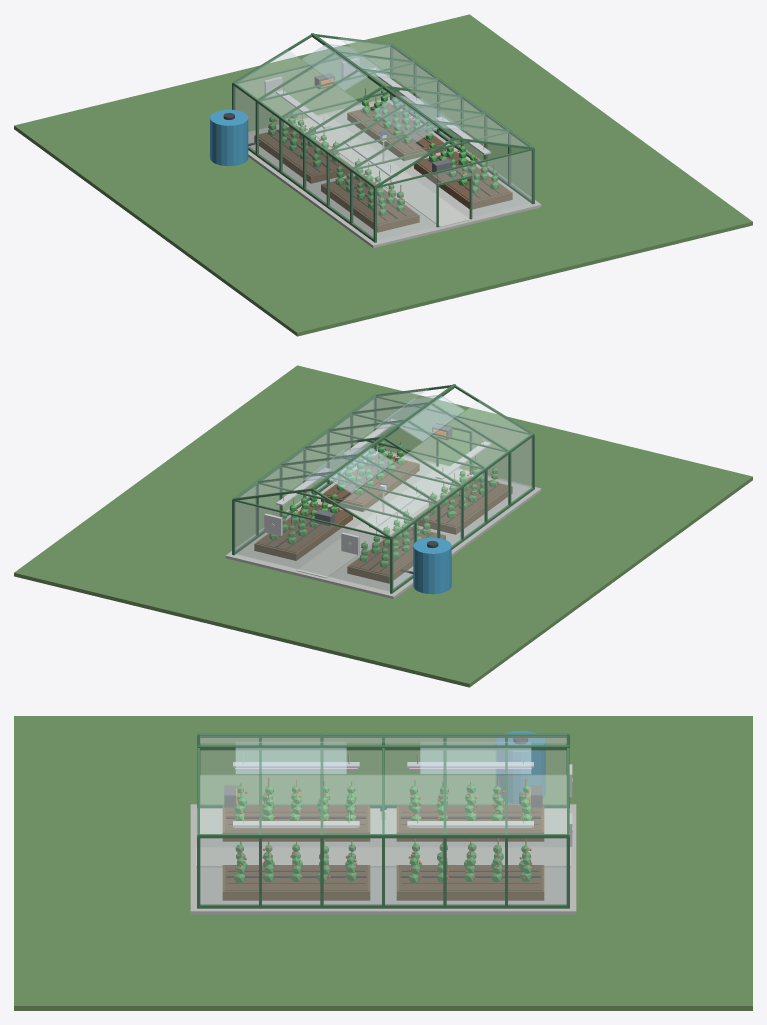
The model's file is greenhouse.glb.
3 views of the same model, one above another, from view 1: azimuth 30°, elevation 25°; view 2: azimuth 150°, elevation 25°; view 3: azimuth 270°, elevation 25° (orthographic). The views are drawn at different scales.
Visible parts, largest first — view 1: Ground_Outside, Greenhouse_Glass, Greenhouse_Frame, Foundation_Slab, Tomato_Foliage, Walkway, WaterTank_Body, VentWindow_Left_1, VentWindow_Left_2, SoilBed_1, SoilBed_4, SoilBed_2 (+7 smaller); view 2: Ground_Outside, Greenhouse_Glass, Greenhouse_Frame, Foundation_Slab, Tomato_Foliage, Walkway, WaterTank_Body, VentWindow_Left_2, VentWindow_Left_1, SoilBed_3, SoilBed_4, SoilBed_1 (+7 smaller); view 3: Ground_Outside, Greenhouse_Glass, Foundation_Slab, Greenhouse_Frame, Tomato_Foliage, Walkway, VentWindow_Right_1, VentWindow_Right_2, SoilBed_3, SoilBed_4, SoilBed_2, SoilBed_1 (+12 smaller).
Boxes of the visible parts, x1=… form: Ground_Outside: x1=14, y1=14, x2=752, y2=336; Greenhouse_Glass: x1=234, y1=37, x2=531, y2=240; Greenhouse_Frame: x1=232, y1=33, x2=534, y2=242; Foundation_Slab: x1=248, y1=97, x2=541, y2=248; Tomato_Foliage: x1=268, y1=89, x2=499, y2=215; Walkway: x1=297, y1=114, x2=470, y2=227; WaterTank_Body: x1=210, y1=109, x2=248, y2=166; VentWindow_Left_1: x1=372, y1=96, x2=438, y2=142; VentWindow_Left_2: x1=302, y1=45, x2=367, y2=90; SoilBed_1: x1=324, y1=175, x2=416, y2=224; SoilBed_4: x1=350, y1=103, x2=443, y2=152; SoilBed_2: x1=259, y1=127, x2=349, y2=175; Ground_Outside: x1=14, y1=365, x2=752, y2=687; Greenhouse_Glass: x1=235, y1=388, x2=532, y2=591; Greenhouse_Frame: x1=232, y1=384, x2=534, y2=593; Foundation_Slab: x1=225, y1=448, x2=541, y2=599; Tomato_Foliage: x1=269, y1=441, x2=498, y2=567; Walkway: x1=296, y1=465, x2=469, y2=578; WaterTank_Body: x1=413, y1=537, x2=451, y2=594; VentWindow_Left_2: x1=328, y1=447, x2=394, y2=493; VentWindow_Left_1: x1=399, y1=396, x2=464, y2=441; SoilBed_3: x1=323, y1=454, x2=416, y2=503; SoilBed_4: x1=257, y1=504, x2=348, y2=552; SoilBed_1: x1=417, y1=476, x2=507, y2=526; Ground_Outside: x1=14, y1=716, x2=752, y2=1010; Greenhouse_Glass: x1=200, y1=735, x2=566, y2=904; Foundation_Slab: x1=190, y1=804, x2=576, y2=914; Greenhouse_Frame: x1=197, y1=733, x2=569, y2=908; Tomato_Foliage: x1=234, y1=784, x2=532, y2=883; Walkway: x1=196, y1=847, x2=570, y2=867; VentWindow_Right_1: x1=235, y1=747, x2=346, y2=774; VentWindow_Right_2: x1=420, y1=747, x2=531, y2=774; SoilBed_3: x1=225, y1=865, x2=367, y2=890; SoilBed_4: x1=399, y1=865, x2=541, y2=890; SoilBed_2: x1=399, y1=806, x2=541, y2=831; SoilBed_1: x1=225, y1=806, x2=367, y2=831.
Bounding box in the file's own units: 26 × 5.01 × 28.
